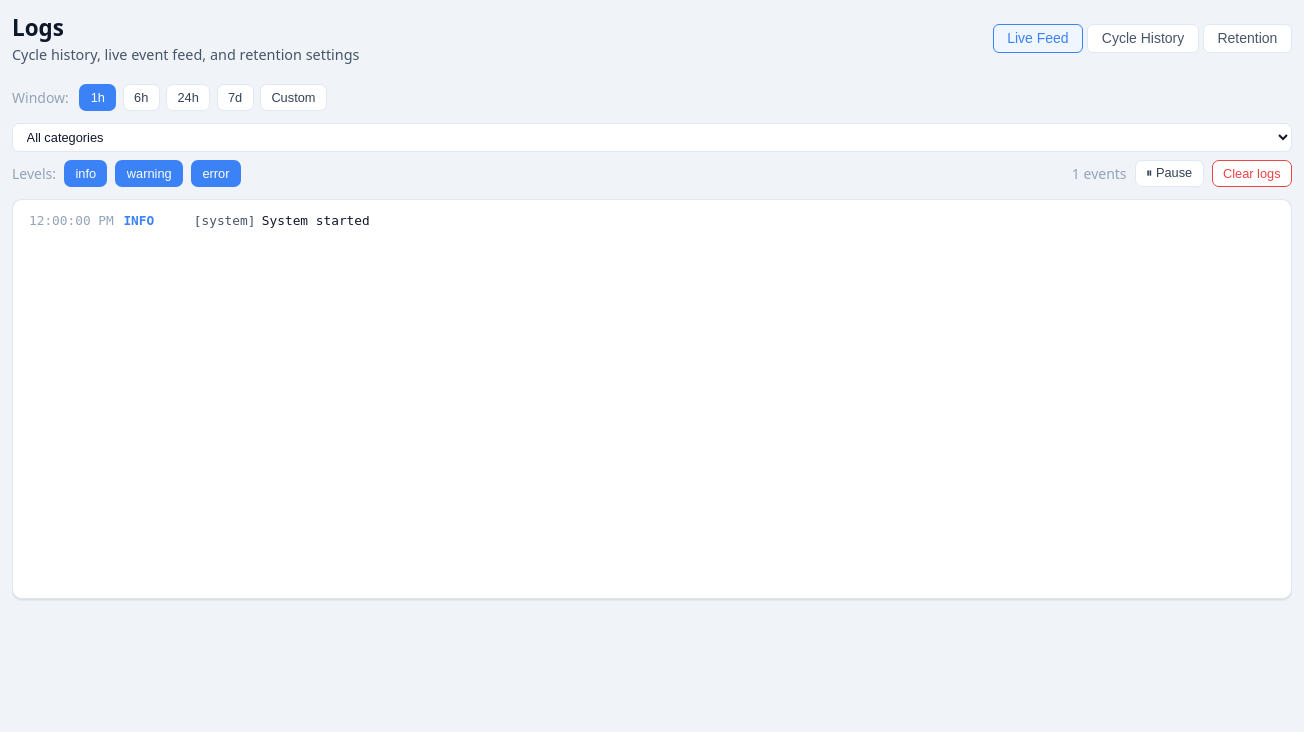
Test: Logs Page › renders the logs page and switches tabs
The image size is (1304, 732).
Expected: the text "System started" is shown, [262,213,370,228]
// Switch to Cycle History
Click the button "Cycle History" at (1143, 38), box [1087,24,1199,53]
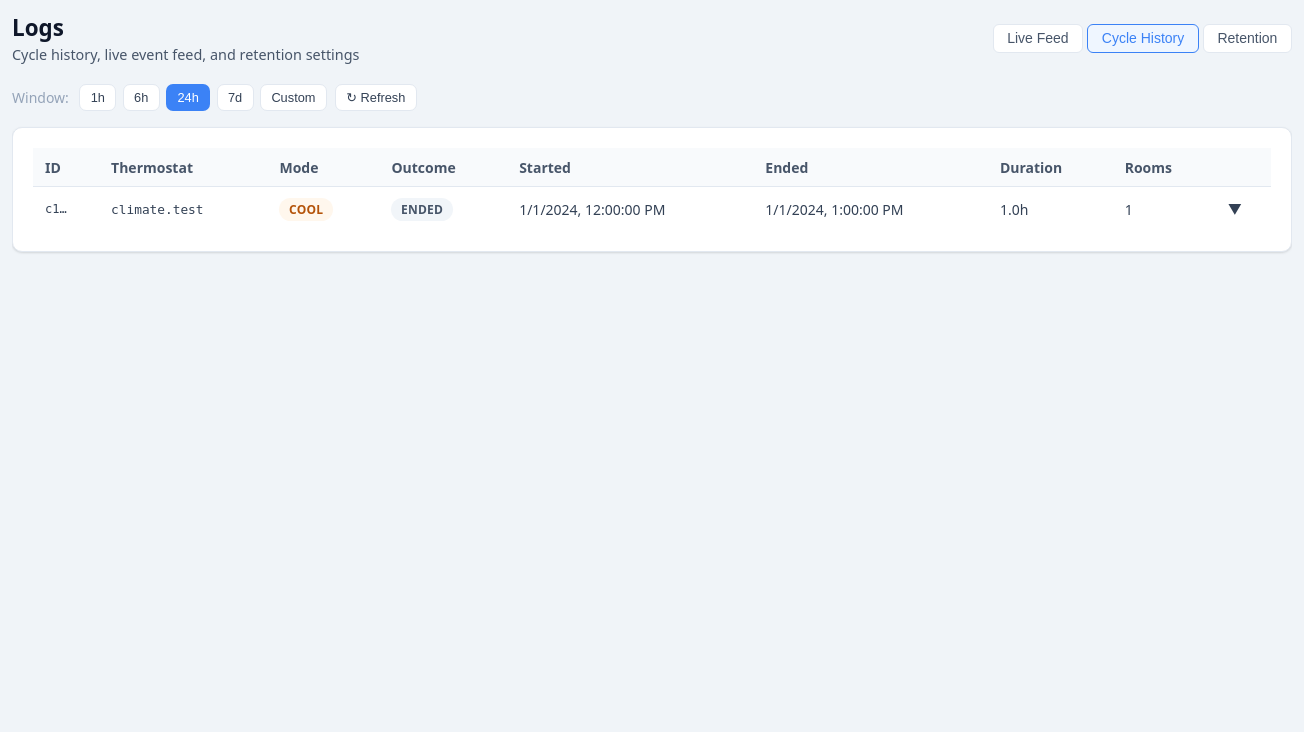
Expected: the text "climate.test" is shown, [99,187,268,231]
// Switch to Retention
Click the button "Retention" at (1247, 38), box [1203,24,1292,53]
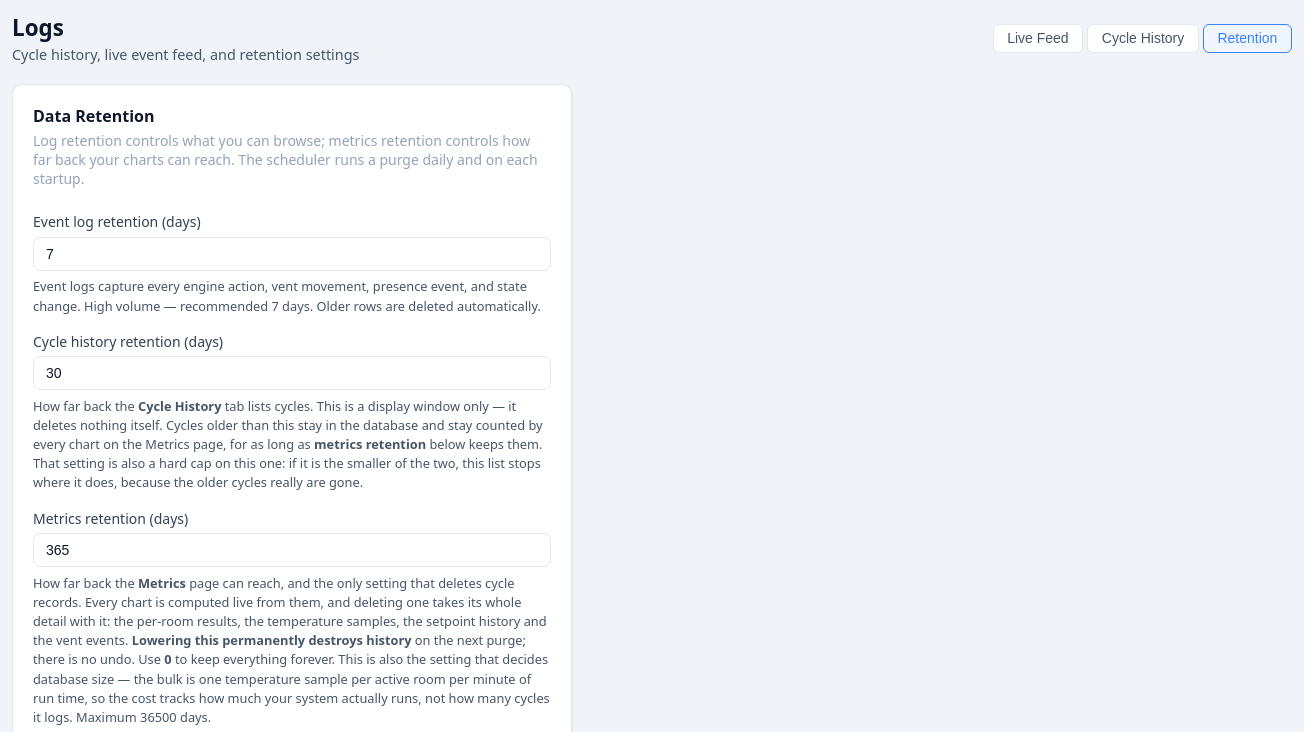
Expected: the text "Data Retention" is shown, [33,105,154,127]
